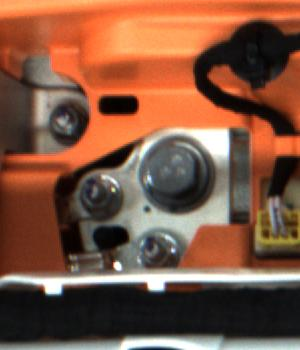nut_b: (133, 127, 218, 218)
screw_s: (72, 175, 121, 217), (45, 104, 82, 143), (138, 238, 169, 270)
